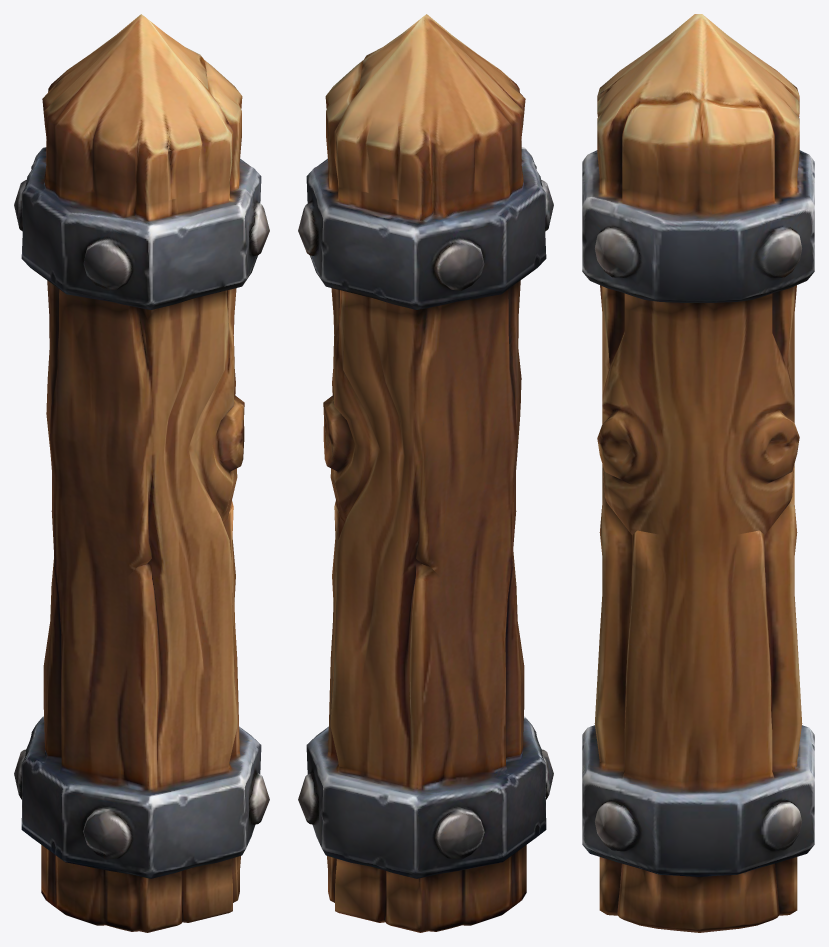
The model's file is fence_post.glb.
The picture shows the model from 3 angles, left to right: view 1: azimuth 30°, elevation 25°; view 2: azimuth 150°, elevation 25°; view 3: azimuth 270°, elevation 25°; orthographic projection.
Parts seen in each view (by area): view 1: Fence_Post; view 2: Fence_Post; view 3: Fence_Post.
Part boxes in pixels (x1,y1,x2,y2): Fence_Post: (14,14,269,932); Fence_Post: (298,14,553,932); Fence_Post: (582,14,814,932).
Size of the model in its own units: 0.1781 by 0.7451 by 0.1781.
1 material, 1 textured.
